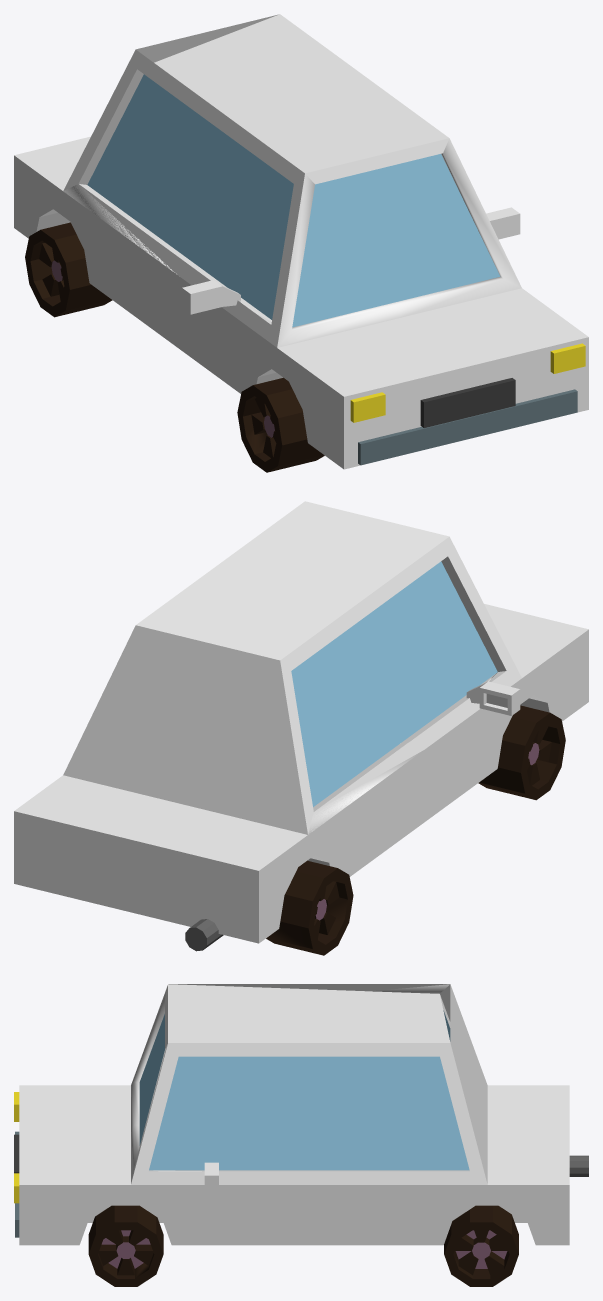
Rendered from simple-low-poly-car.gltf.
3 renders of one model, top to bottom at view 1: azimuth 30°, elevation 25°; view 2: azimuth 150°, elevation 25°; view 3: azimuth 270°, elevation 25°, orthographic. The views are drawn at different scales.
Parts seen in each view (by area): view 1: chassis, extra-car-stuff, front-right-tire, back-right-tire; view 2: chassis, extra-car-stuff, back-right-tire, front-right-tire; view 3: chassis, extra-car-stuff, front-left-tire, back-left-tire.
Part boxes in pixels (x1,y1,x2,y2): chassis: (14, 14, 588, 469); extra-car-stuff: (87, 74, 585, 465); front-right-tire: (237, 377, 324, 472); back-right-tire: (25, 222, 112, 317); chassis: (14, 501, 588, 943); extra-car-stuff: (185, 561, 497, 951); back-right-tire: (266, 860, 353, 955); front-right-tire: (478, 705, 565, 800); chassis: (19, 984, 569, 1245); extra-car-stuff: (14, 1010, 588, 1237); front-left-tire: (88, 1205, 163, 1286); back-left-tire: (444, 1205, 518, 1286).
Size of the model in its own units: 4.13 by 3.11 by 7.49.
Materials: 1 (1 with a texture image).
